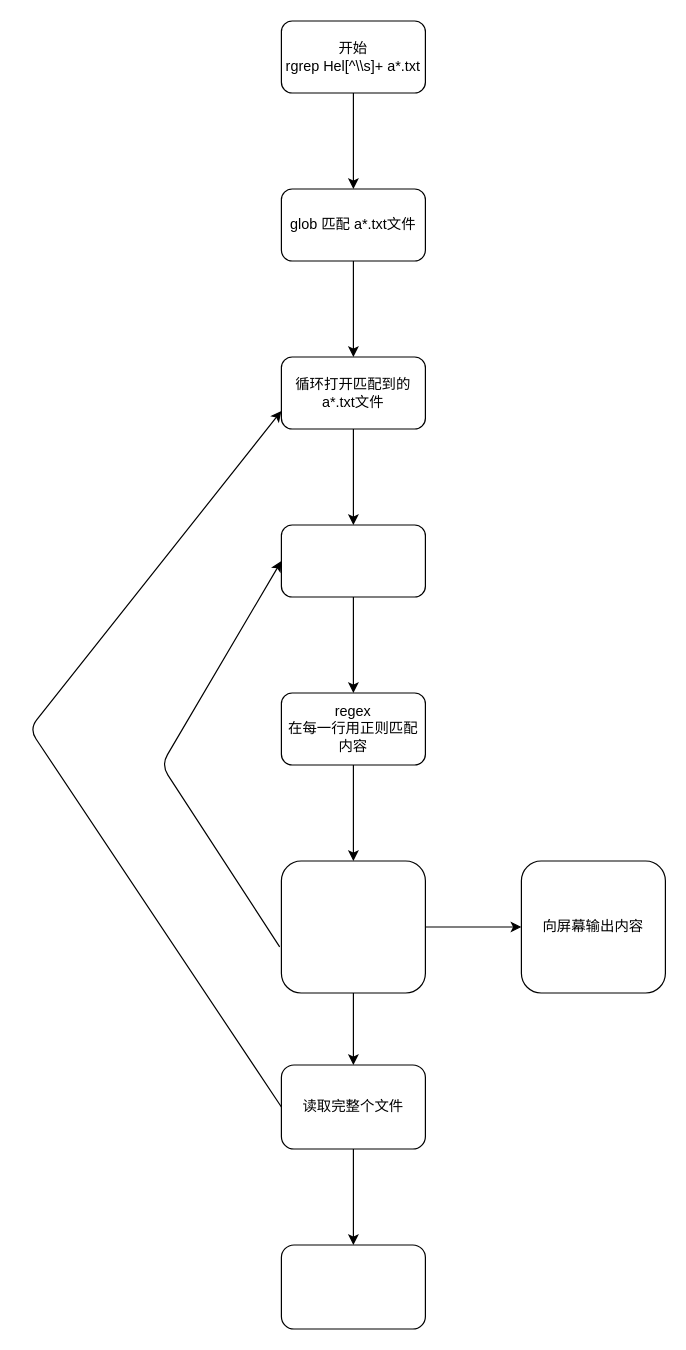
The diagram is 686 pixels wide and 1350 high, and some of its shapes have lost their labels. The shapes that lost their labels are listed below. From the top down, each one's centre as x and y in pixels, then its label:
At point (352, 560): "遍历文件的每一行内容".
At point (352, 926): "匹配到的内容，提取内容，用color-eyre给提取的内容加颜色并替换原来行的内容，并提取行号，字符所在索引位置".
At point (352, 1286): "结束".
